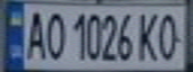0: (84, 9, 103, 61)
1: (66, 9, 87, 61)
2: (100, 10, 118, 61)
6: (115, 9, 136, 62)
A: (21, 7, 48, 61)
K: (133, 9, 163, 62)
O: (154, 9, 184, 62), (42, 7, 66, 61)
